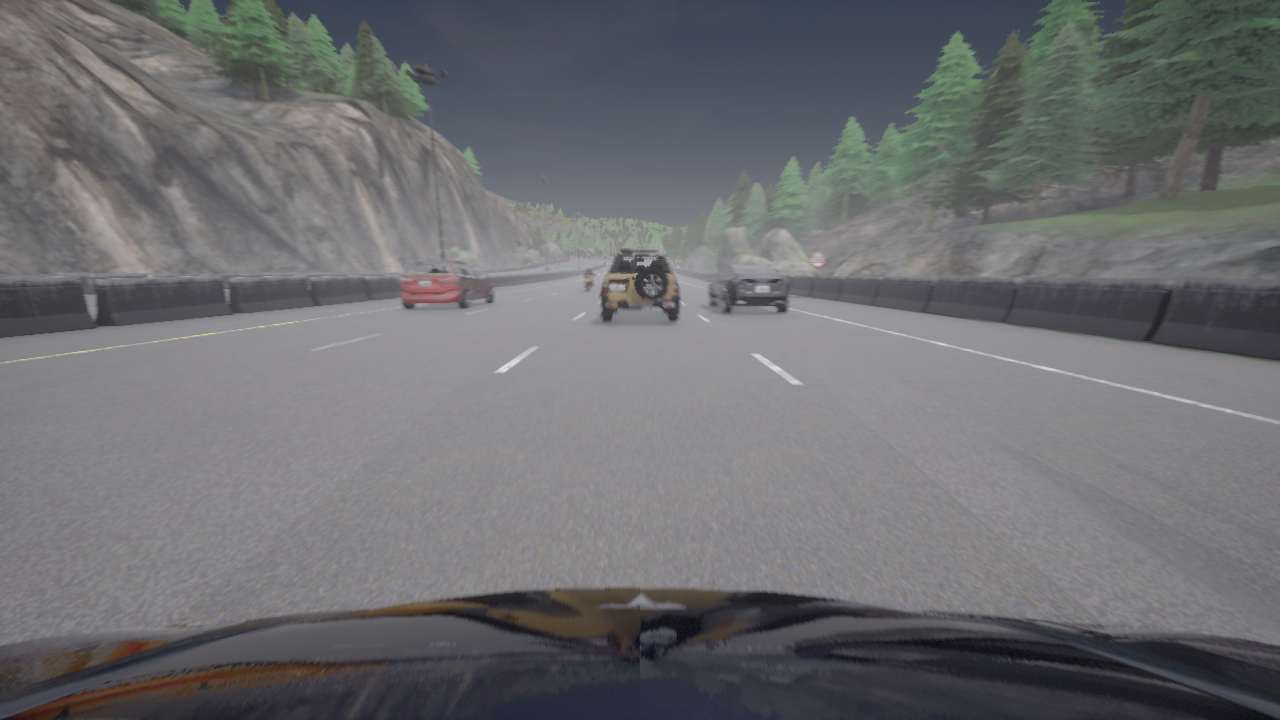cyclist: (0, 588, 1279, 719), (600, 249, 679, 322), (399, 261, 494, 309), (708, 265, 788, 313), (584, 277, 591, 291)
